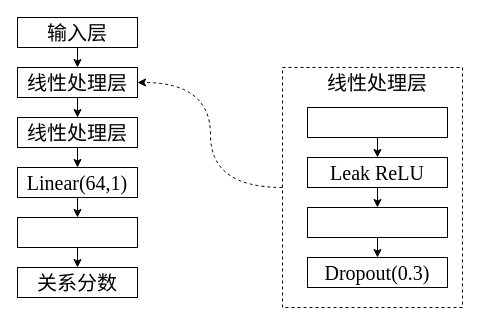
This 480x325 diagram has some shape labels left out. Each missing label, with the centre of its shape:
"BN" goes at (377,222).
"Linear(256,256)" goes at (377,122).
"sigmoid" goes at (77,232).
